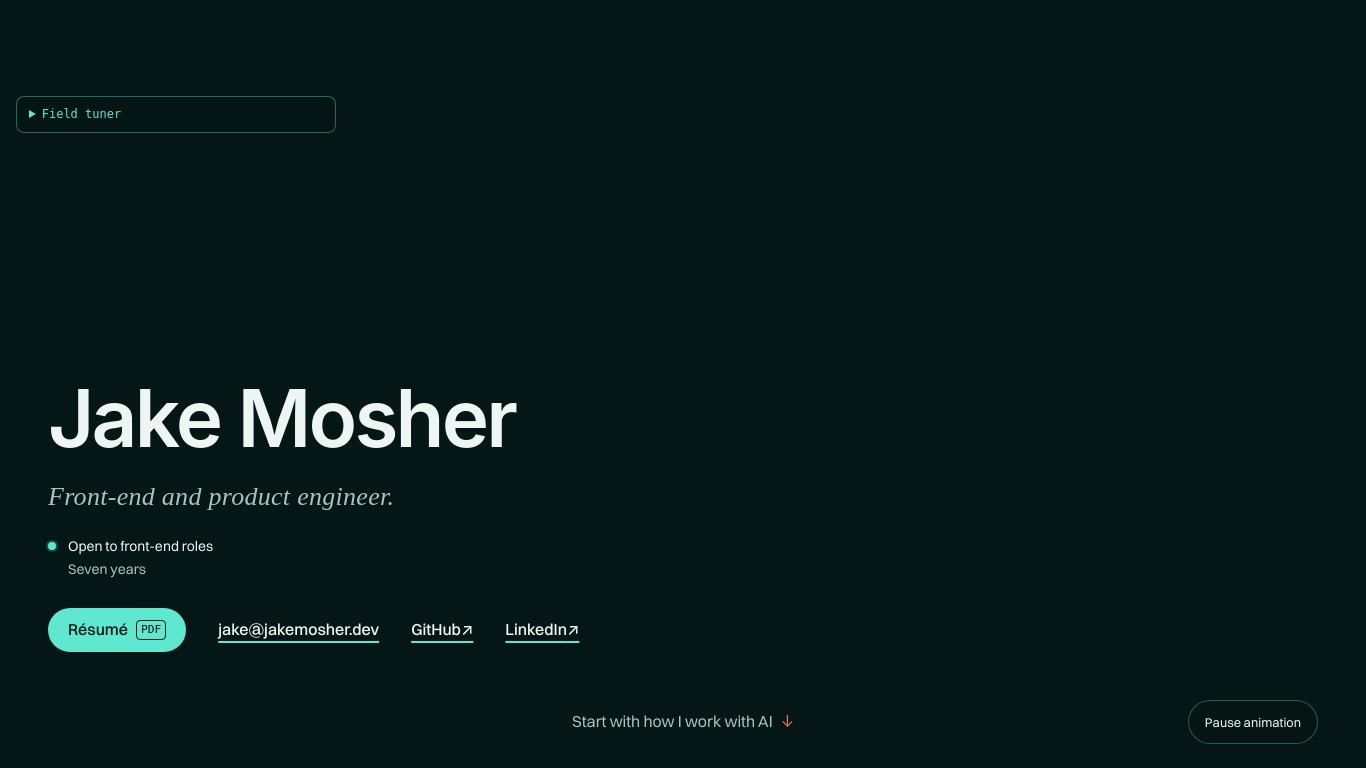
Test: Hero › lets anyone stop the field, since it moves for longer than five seconds (WCAG 2.2.2)
Click the button "Pause animation": {"x": 1253, "y": 722} [1188,700,1318,744]
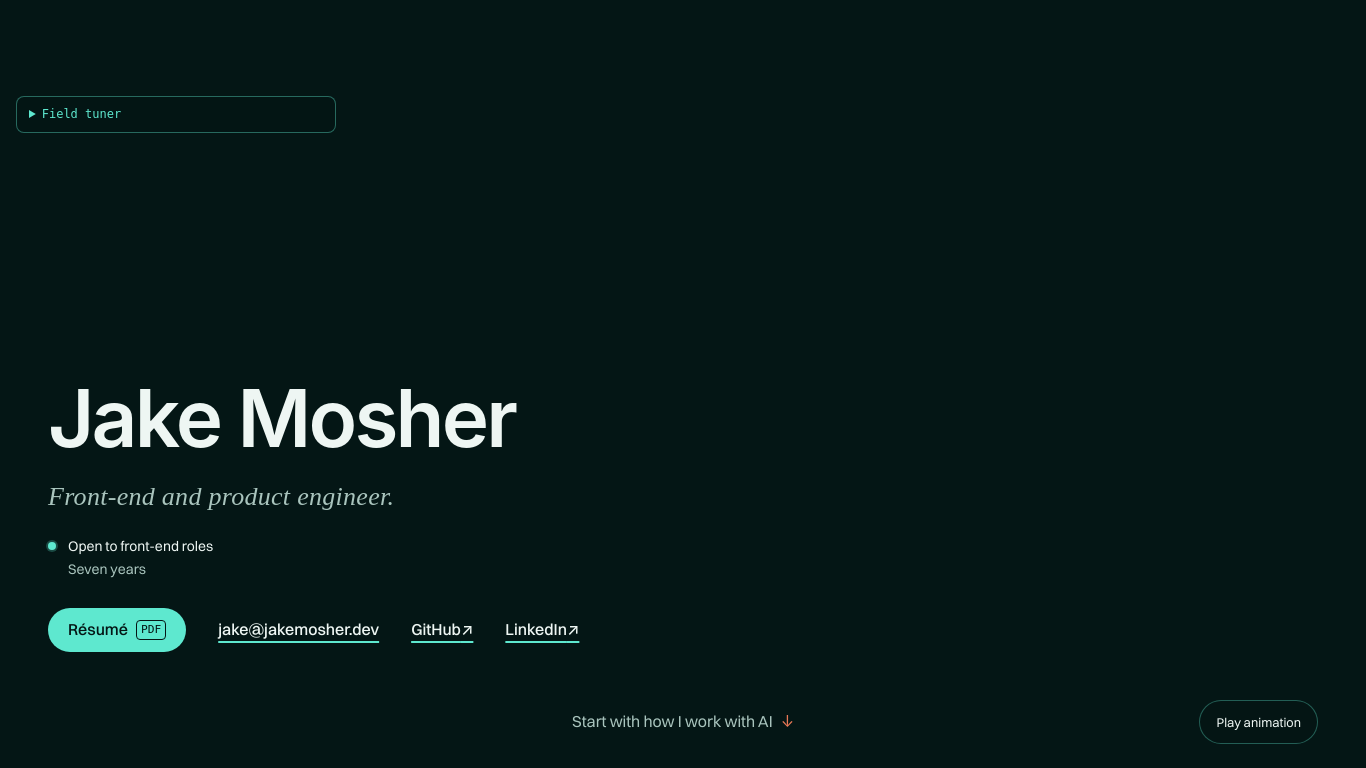
expect the button named "Pause animation" reads "Play animation": met, box [1200,700,1318,744]
